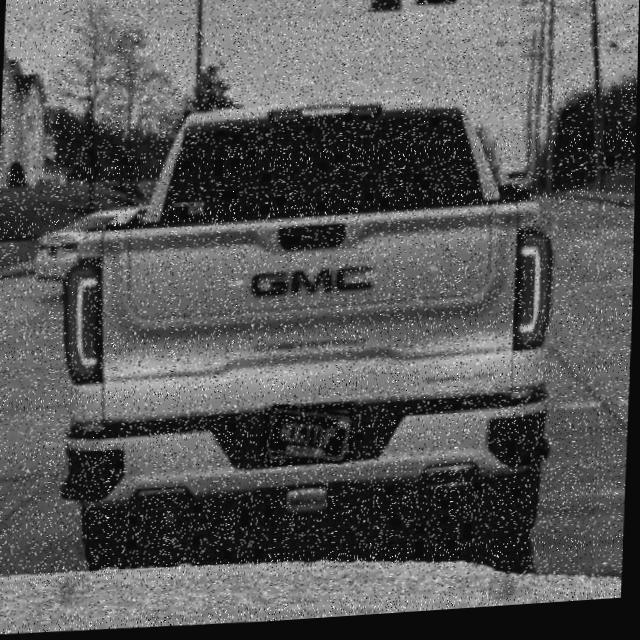LicensePlate: (264, 409, 355, 467)
